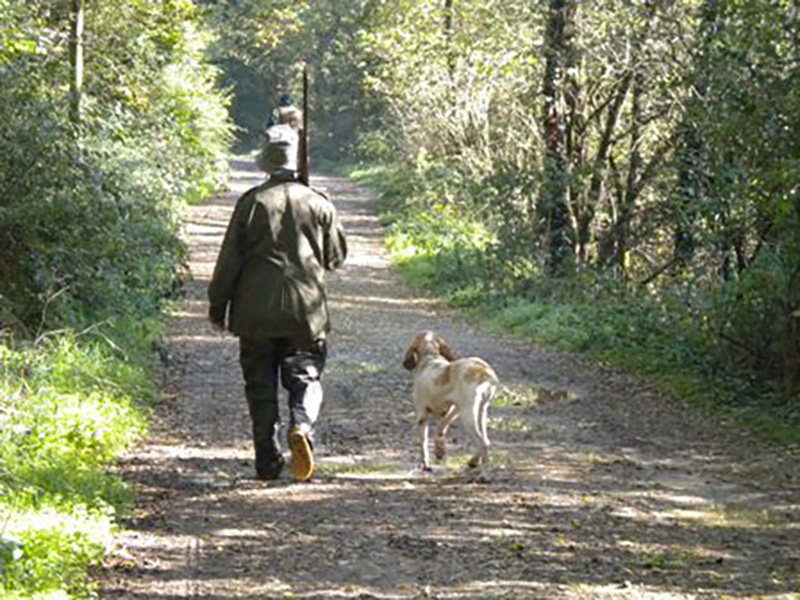cacciatore: (217, 112, 349, 485)
cane da caccia: (399, 324, 511, 489)
